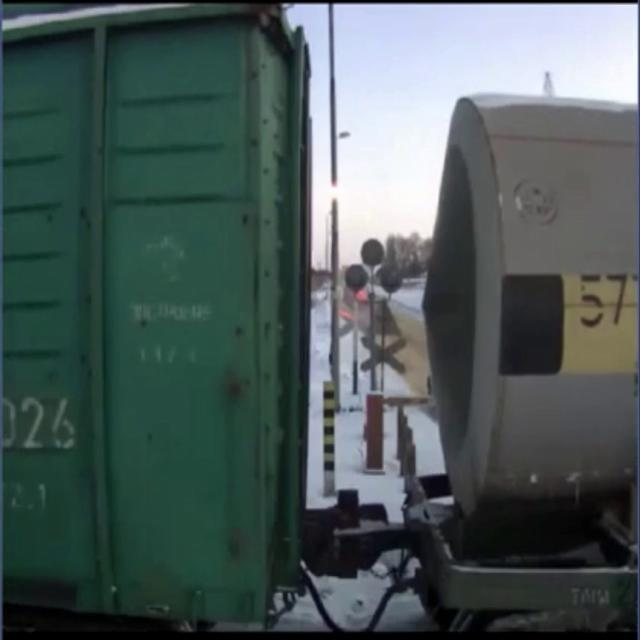gondola: (0, 0, 346, 640)
tank: (395, 35, 640, 640)
